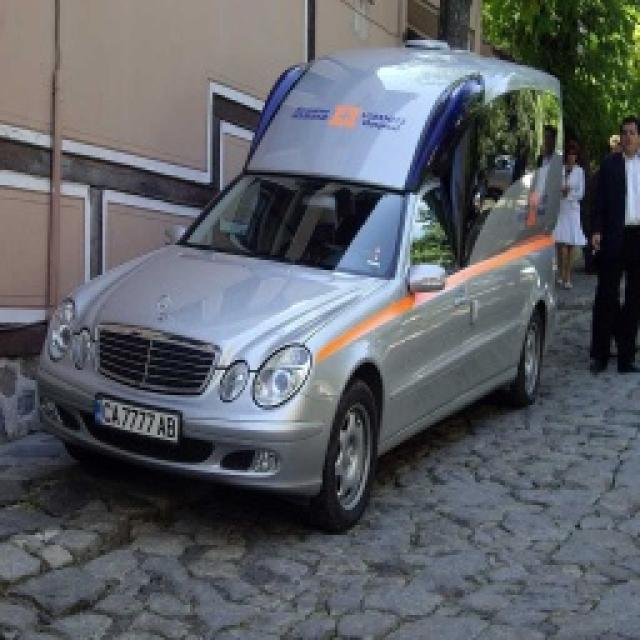emergency-vehicle: (38, 11, 590, 516)
